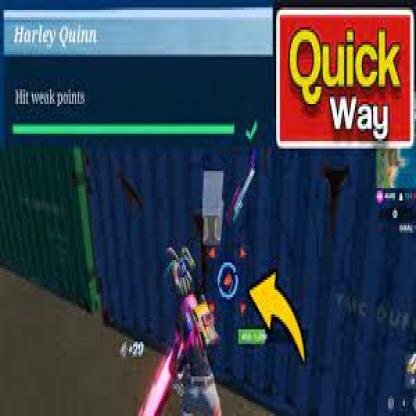person: (216, 261, 242, 300)
